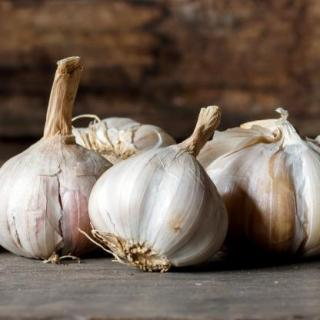Bawang Putih: (88, 140, 230, 277), (1, 134, 121, 264), (205, 138, 320, 261)
